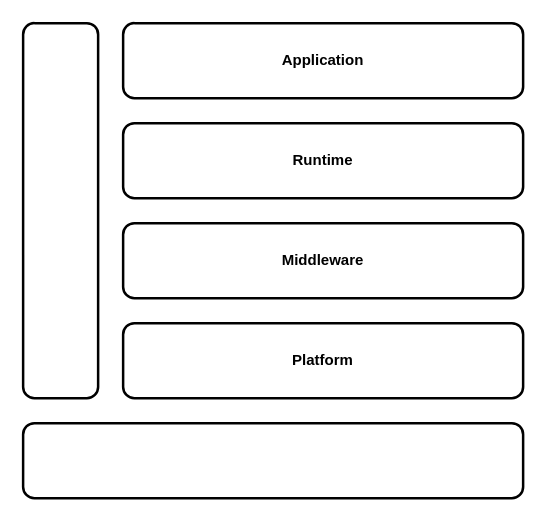
Some shapes in this 545 by 520 pixel diagram are drawn without their labels. The shapes that lost their labels are listed below. From the top down, each one's centre as x and y in pixels, then its label:
[60,210]: UNISIS
[272,460]: Hardware
